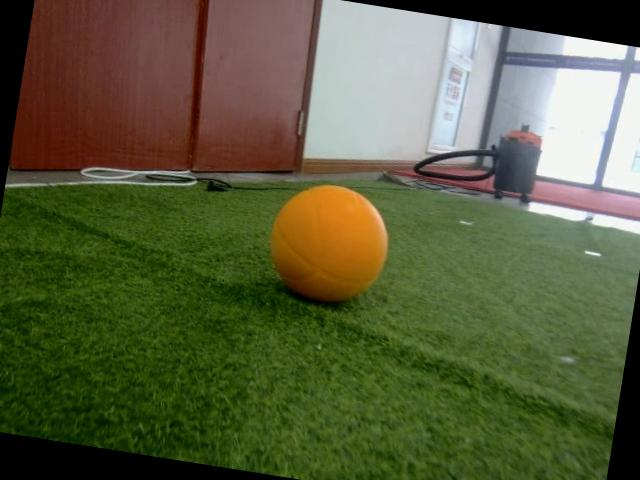orange_ball: (259, 175, 399, 311)
